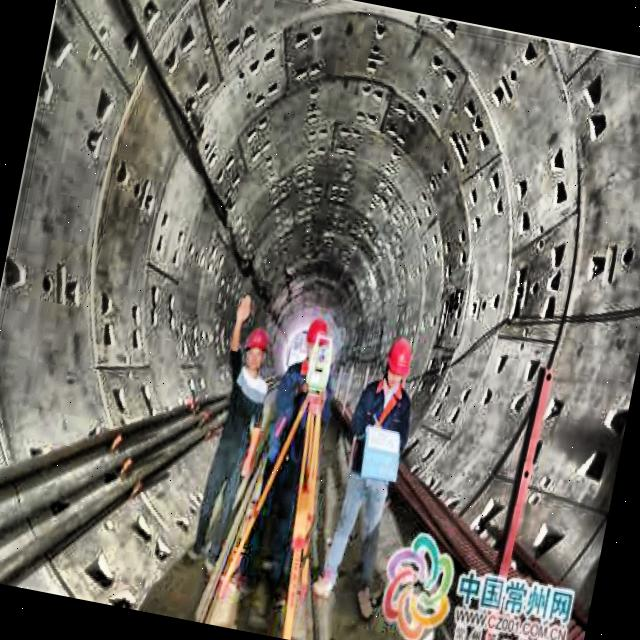helmet: (382, 332, 416, 390), (302, 315, 332, 364), (242, 323, 272, 371)
